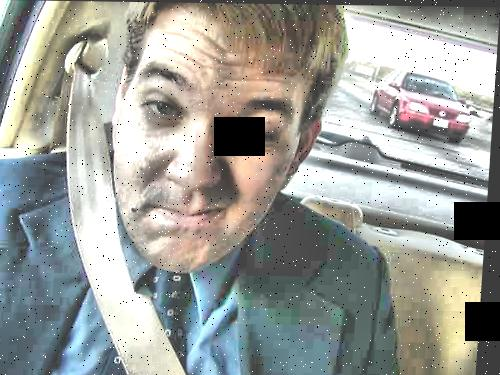seatbelt: (13, 54, 198, 363)
